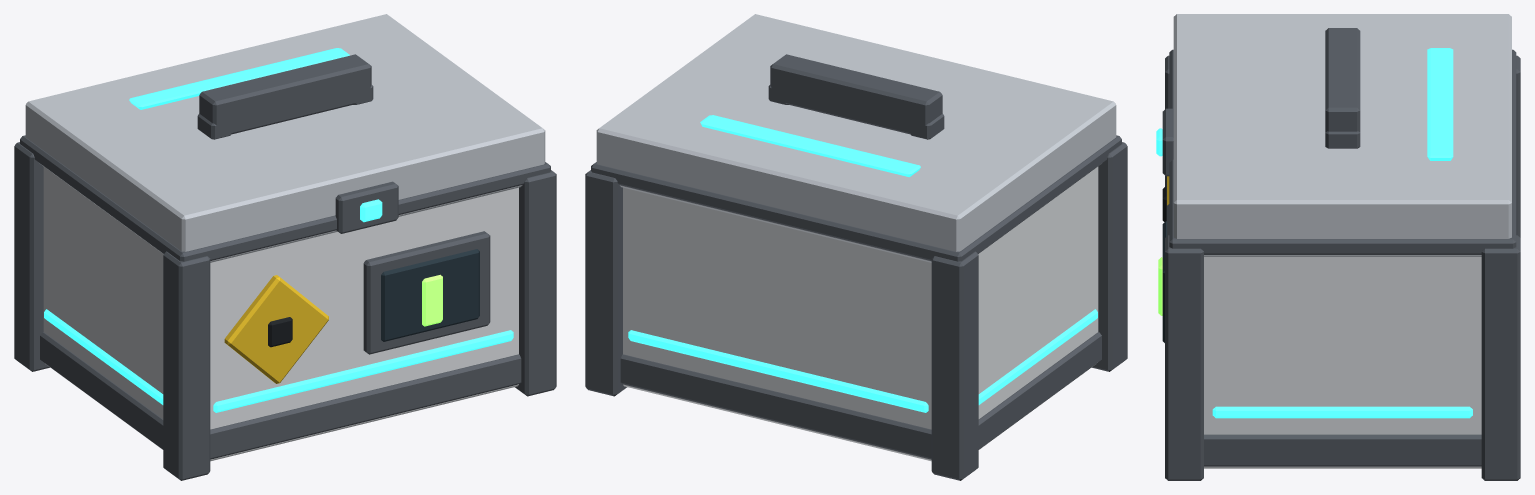
The model's file is myw_crate_zone10.glb.
The picture shows the model from 3 angles, left to right: view 1: azimuth 30°, elevation 25°; view 2: azimuth 150°, elevation 25°; view 3: azimuth 270°, elevation 25°; orthographic projection. The views are drawn at different scales.
Parts seen in each view (by area): view 1: Body, Lid; view 2: Body, Lid; view 3: Lid, Body.
Part boxes in pixels (x1,y1,x2,y2): Body: (14, 142, 556, 480); Lid: (20, 14, 550, 262); Body: (585, 142, 1127, 480); Lid: (591, 14, 1121, 262); Lid: (1156, 14, 1516, 256); Body: (1158, 55, 1520, 480).
Size of the model in its own units: 2.14 by 1.61 by 1.68.
